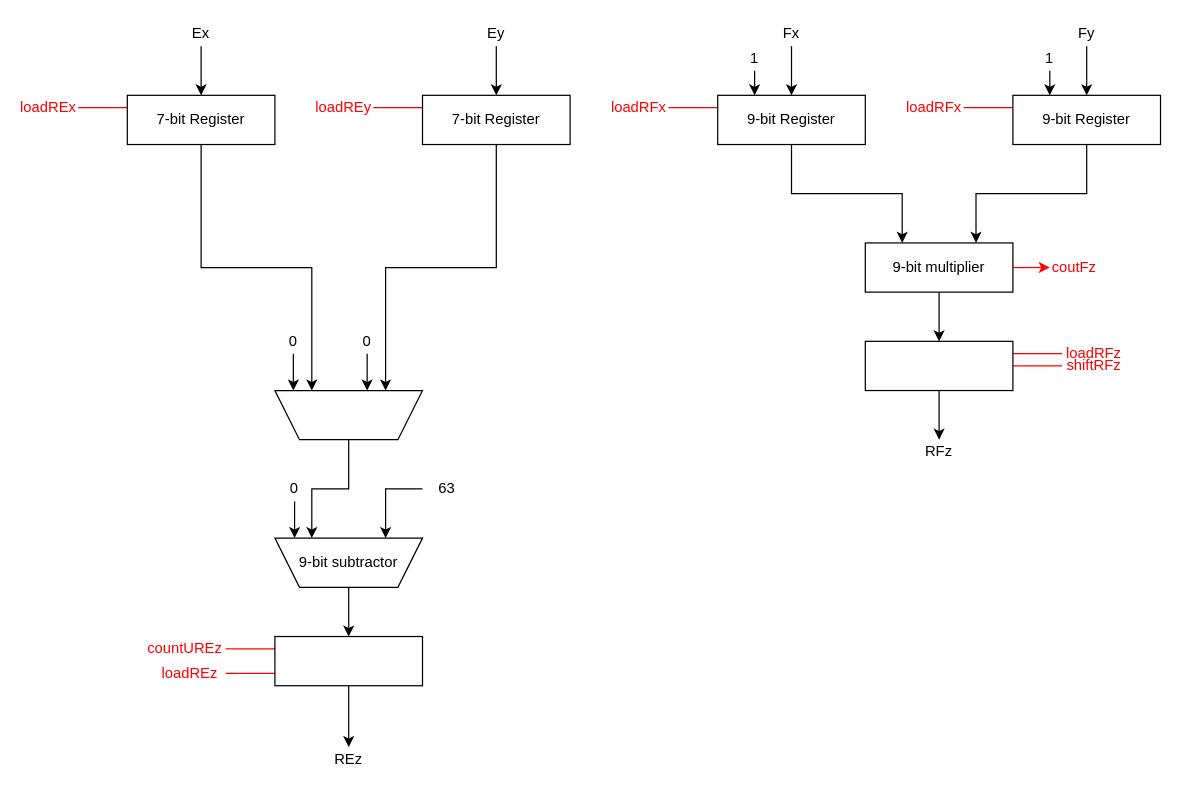
This 1182x792 diagram has some shape labels left out. The centre of each missing label's shape, as x and y in pixels:
7-bit counter: the point at 348,660
8-bit adder: the point at 348,414
9-bit Shift Register: the point at 938,365
